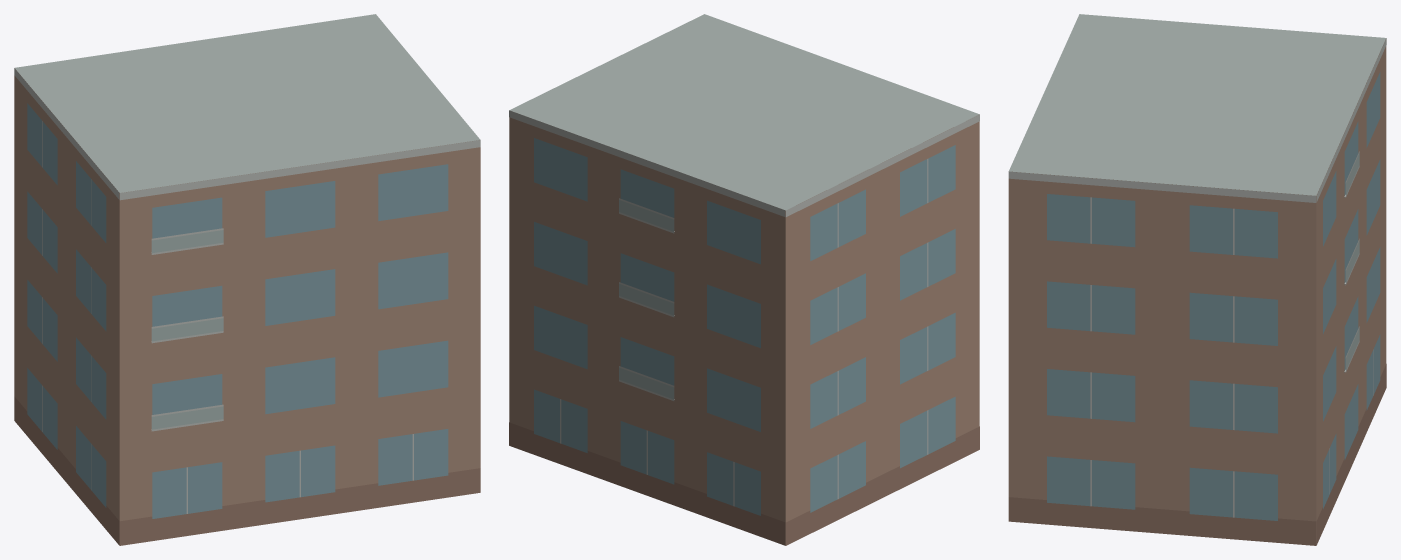
The model's file is survey-upis-32536808.glb.
3 renders of one model, left to right at view 1: azimuth 30°, elevation 25°; view 2: azimuth 150°, elevation 25°; view 3: azimuth 270°, elevation 25°, orthographic. The views are drawn at different scales.
Parts seen in each view (by area): view 1: survey-upis-32536808.tmp; view 2: survey-upis-32536808.tmp; view 3: survey-upis-32536808.tmp.
Boxes of the visible parts, <box> form: survey-upis-32536808.tmp: <box>14,14,480,545</box>; survey-upis-32536808.tmp: <box>509,14,979,545</box>; survey-upis-32536808.tmp: <box>1008,14,1386,545</box>.
Size of the model in its own units: 13.15 by 11.8 by 11.55.
